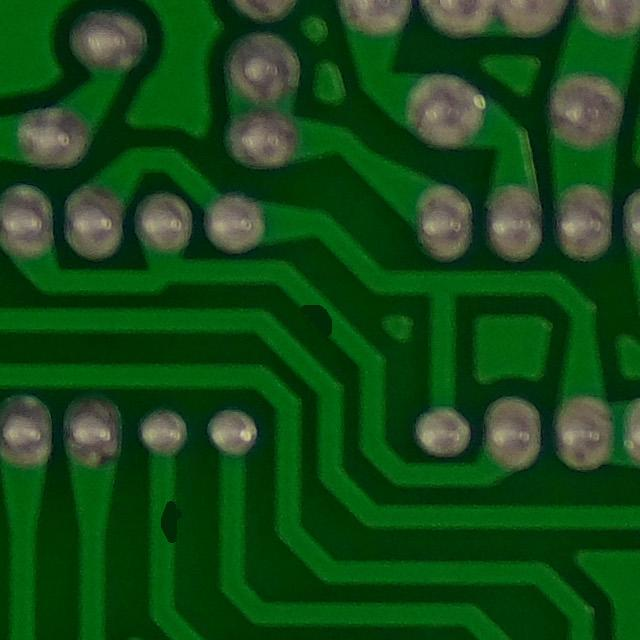mouse_bite: (281, 291, 359, 350)
